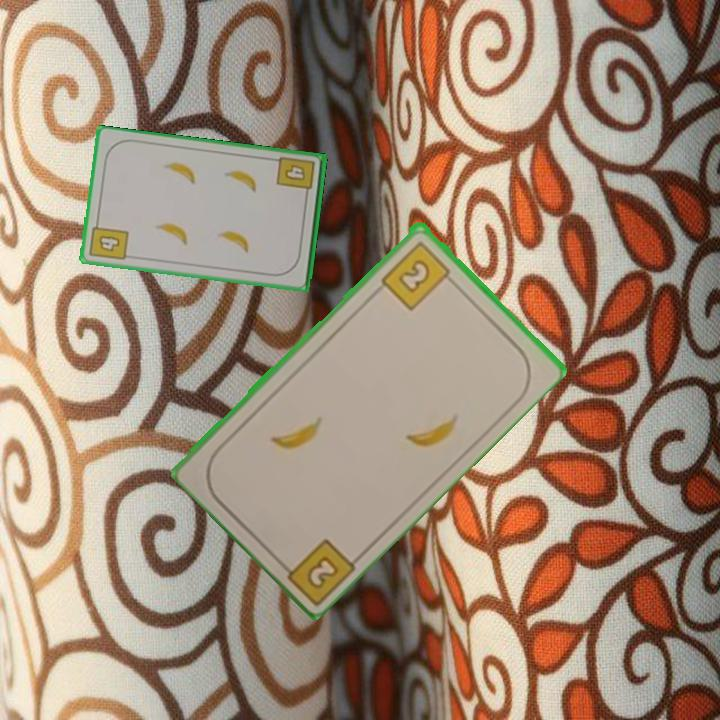2b: (377, 237, 458, 313), (273, 534, 359, 605)
4b: (273, 153, 318, 201), (86, 216, 131, 263)
